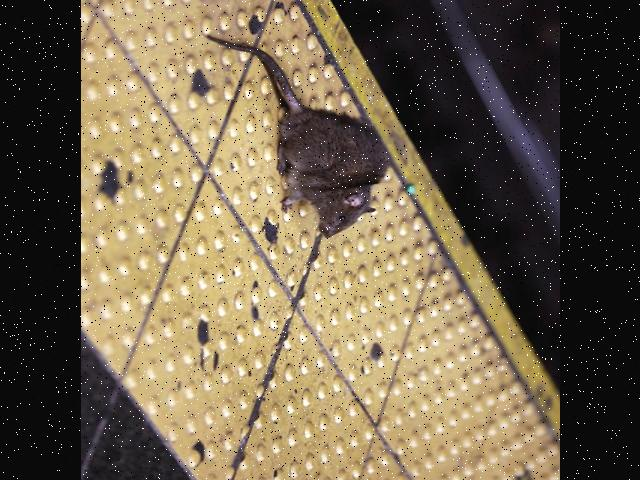Tikus: (202, 31, 390, 237)
